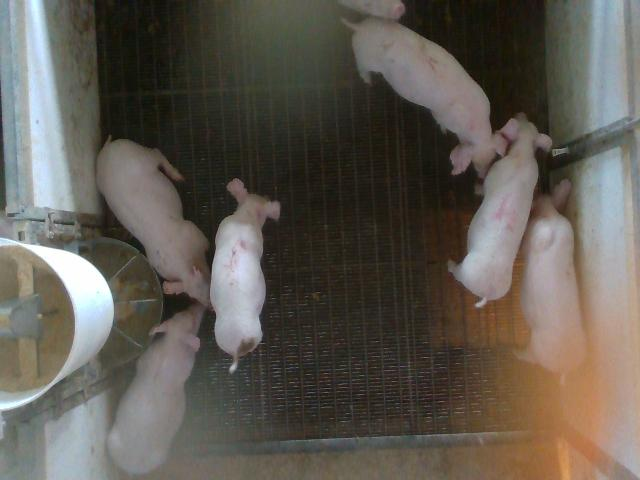pig-4: (449, 114, 551, 308)
pig-5: (210, 179, 280, 372)
